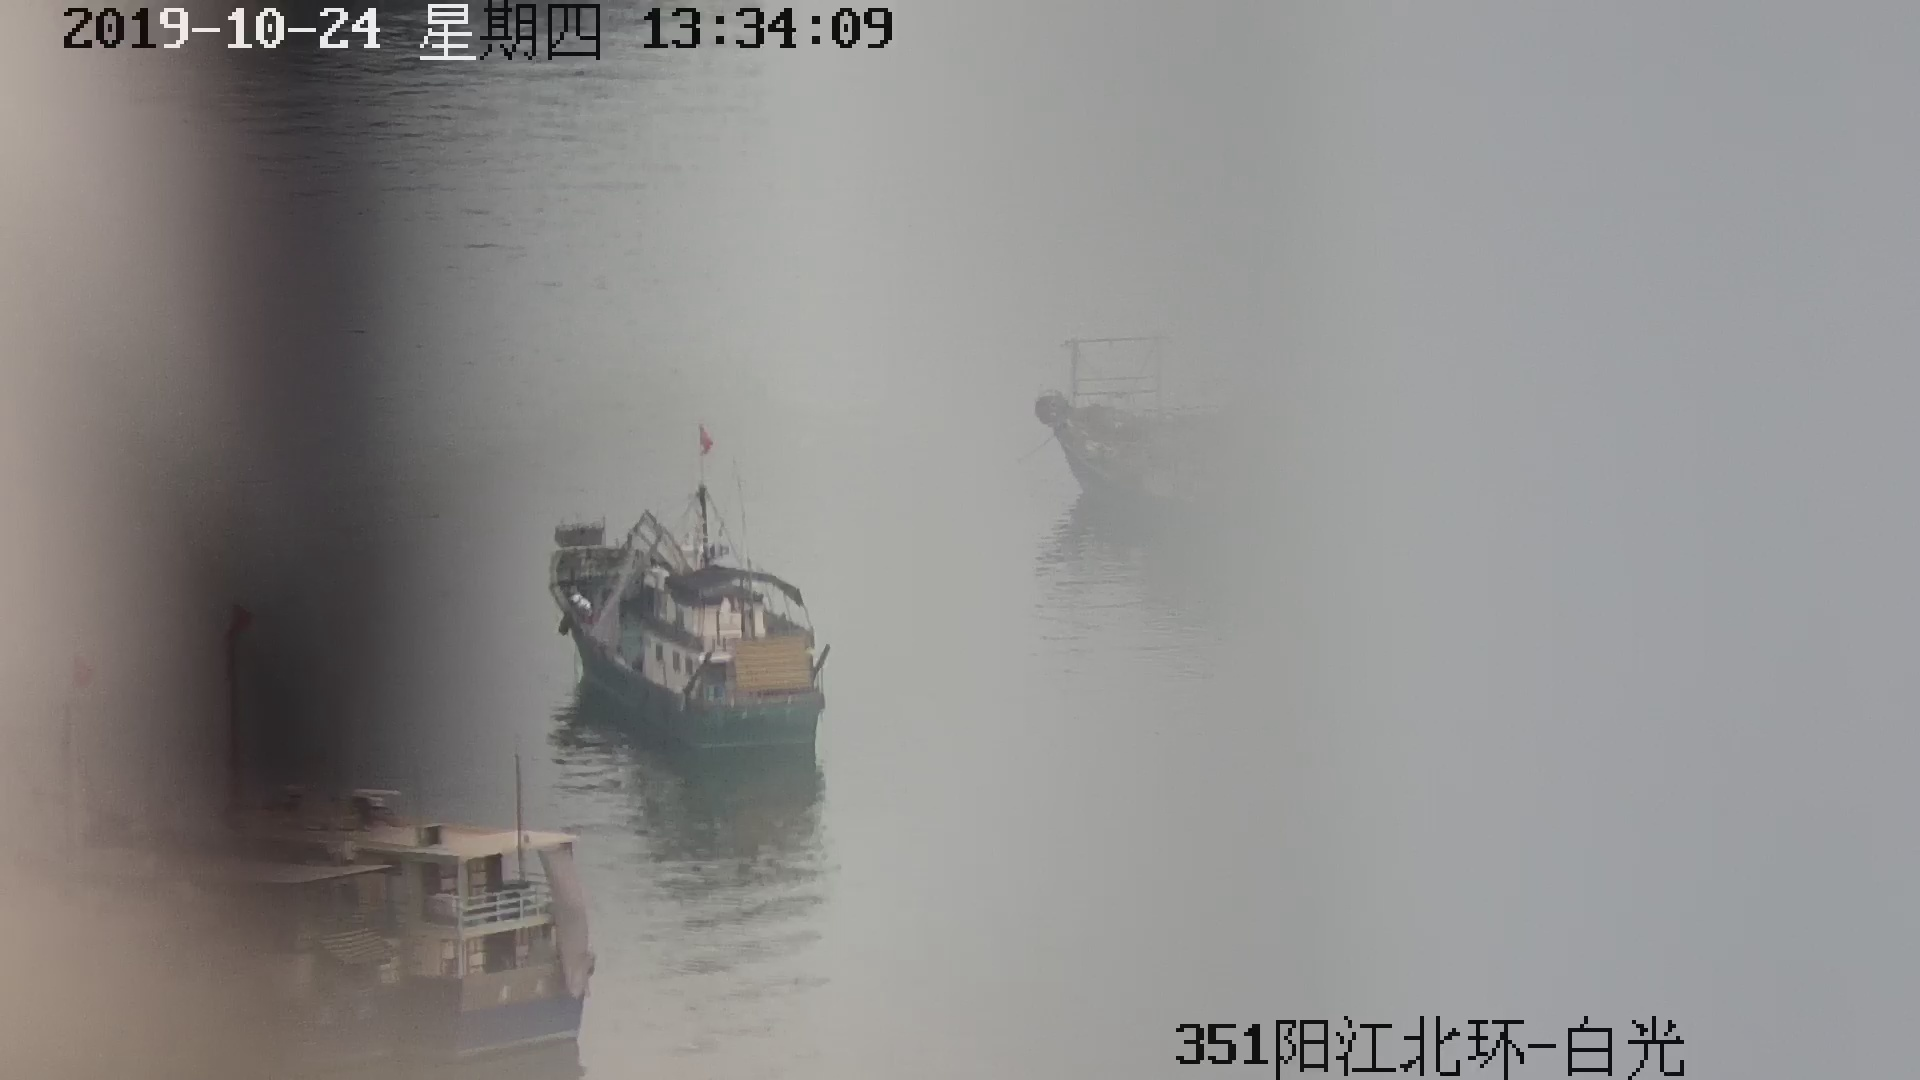ship: (549, 431, 836, 766)
